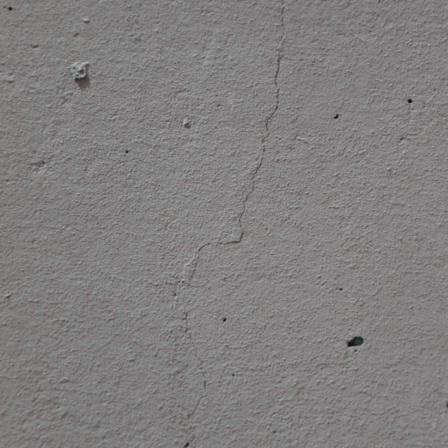crack: (153, 0, 306, 427)
hole: (345, 334, 366, 349)
